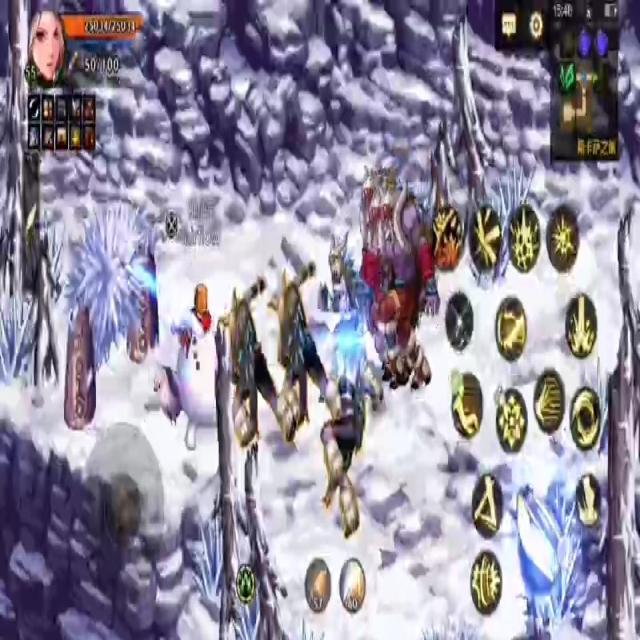player: (174, 276, 222, 448)
